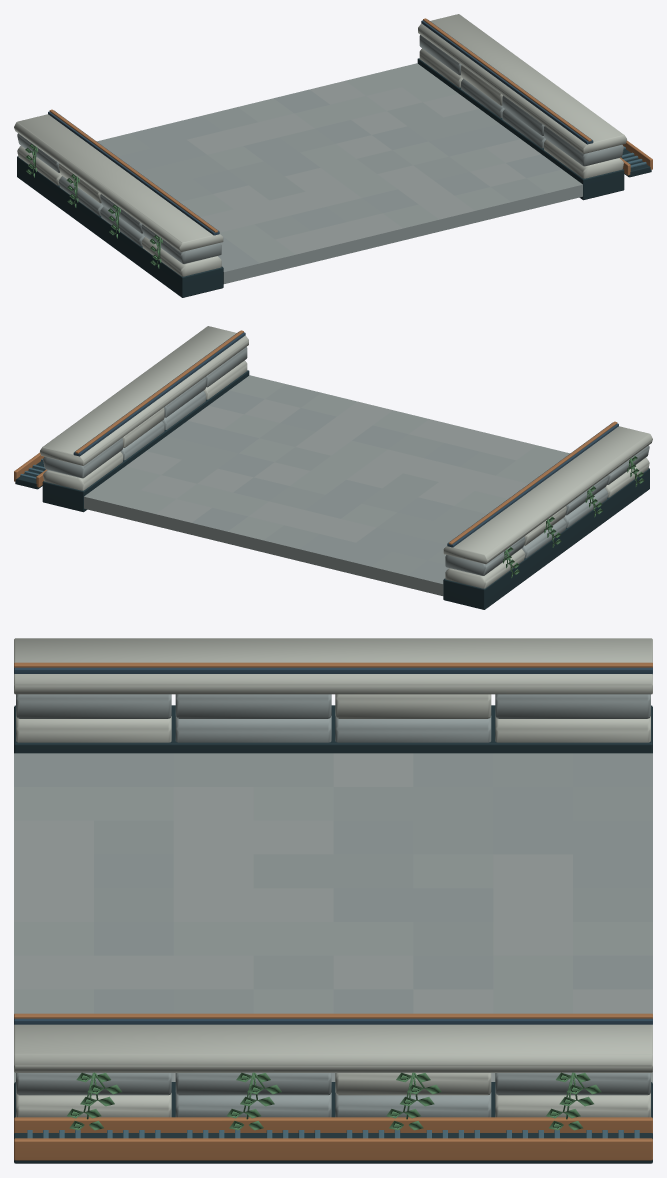
The model's file is STURMBASTION_CORRIDOR_TILE.hi.glb.
The picture shows the model from 3 angles, top to bottom: view 1: azimuth 30°, elevation 25°; view 2: azimuth 150°, elevation 25°; view 3: azimuth 270°, elevation 25°; orthographic projection. The views are drawn at different scales.
Visible parts, largest first — view 1: STURMBASTION_CORRIDOR_TILE_Geometry; view 2: STURMBASTION_CORRIDOR_TILE_Geometry; view 3: STURMBASTION_CORRIDOR_TILE_Geometry.
Boxes of the visible parts, x1=… form: STURMBASTION_CORRIDOR_TILE_Geometry: x1=14, y1=14, x2=652, y2=297; STURMBASTION_CORRIDOR_TILE_Geometry: x1=14, y1=326, x2=652, y2=609; STURMBASTION_CORRIDOR_TILE_Geometry: x1=14, y1=638, x2=652, y2=1163.
Size of the model in its own units: 13.36 by 1.57 by 8.
